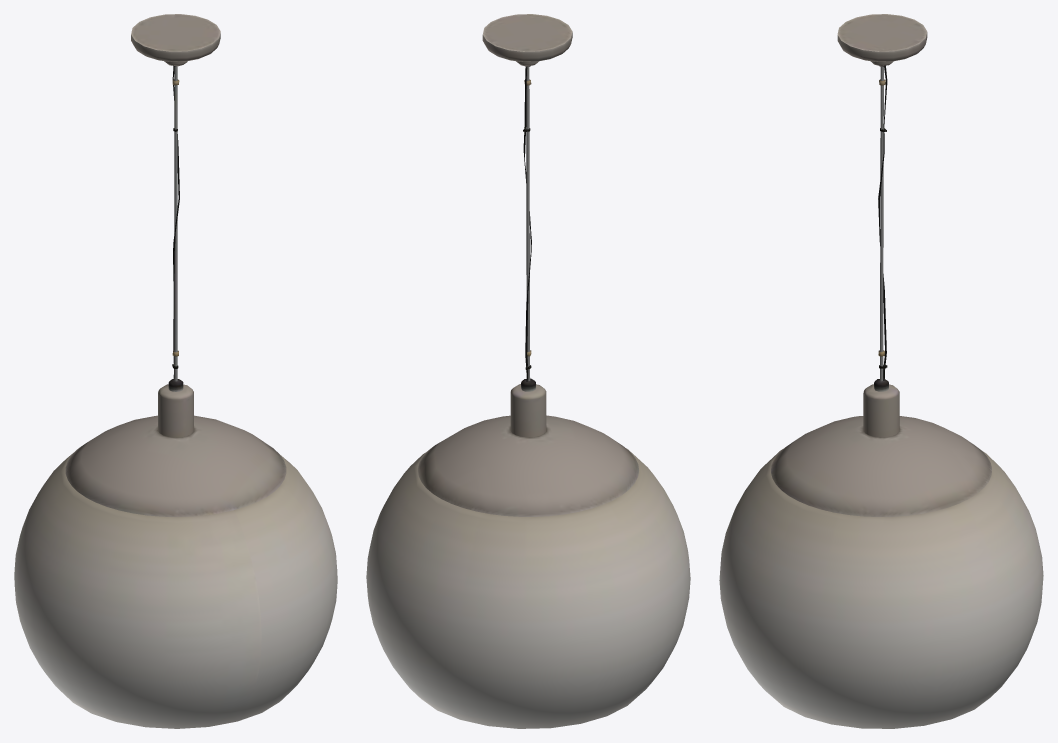
Rendered from pendant.mobile.glb.
3 views of the same model, side by side, from view 1: azimuth 30°, elevation 25°; view 2: azimuth 150°, elevation 25°; view 3: azimuth 270°, elevation 25° (orthographic).
Visible parts, largest first — view 1: modern_ceiling_lamp_01; view 2: modern_ceiling_lamp_01; view 3: modern_ceiling_lamp_01.
Boxes of the visible parts, x1,y1,x2,y2 form: modern_ceiling_lamp_01: (14,14,337,728); modern_ceiling_lamp_01: (366,14,690,728); modern_ceiling_lamp_01: (719,14,1043,728).
Size of the model in its own units: 0.4316 by 0.9512 by 0.4316.
Materials: 2 (2 with a texture image).
